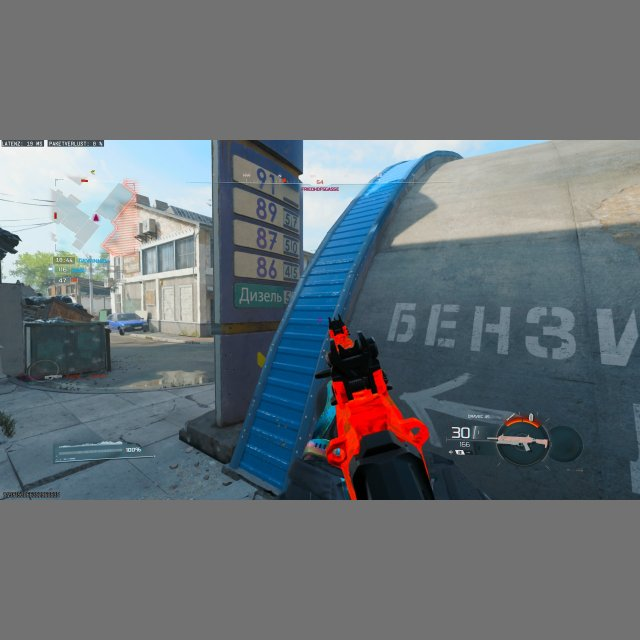head: (328, 315, 344, 335)
player: (327, 315, 352, 349)
